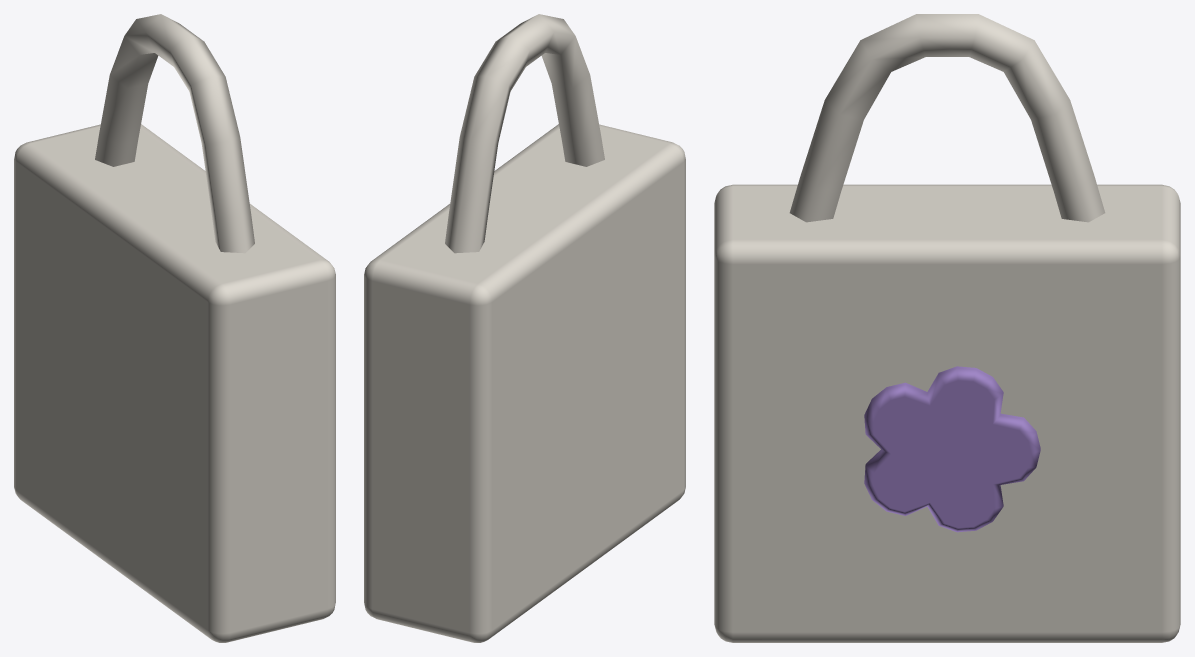
Rendered from department_store_paper_bag.glb.
3 views of the same model, side by side, from view 1: azimuth 30°, elevation 25°; view 2: azimuth 150°, elevation 25°; view 3: azimuth 270°, elevation 25° (orthographic). The views are drawn at different scales.
Visible parts, largest first — view 1: department_store_paper_bag_ArmR; view 2: department_store_paper_bag_ArmR; view 3: department_store_paper_bag_ArmR.
Part boxes in pixels (x1,y1,x2,y2): department_store_paper_bag_ArmR: (14,14,335,642); department_store_paper_bag_ArmR: (364,14,685,642); department_store_paper_bag_ArmR: (714,14,1180,642).
Bounding box in the file's own units: 0.076 × 0.2842 × 0.2.
